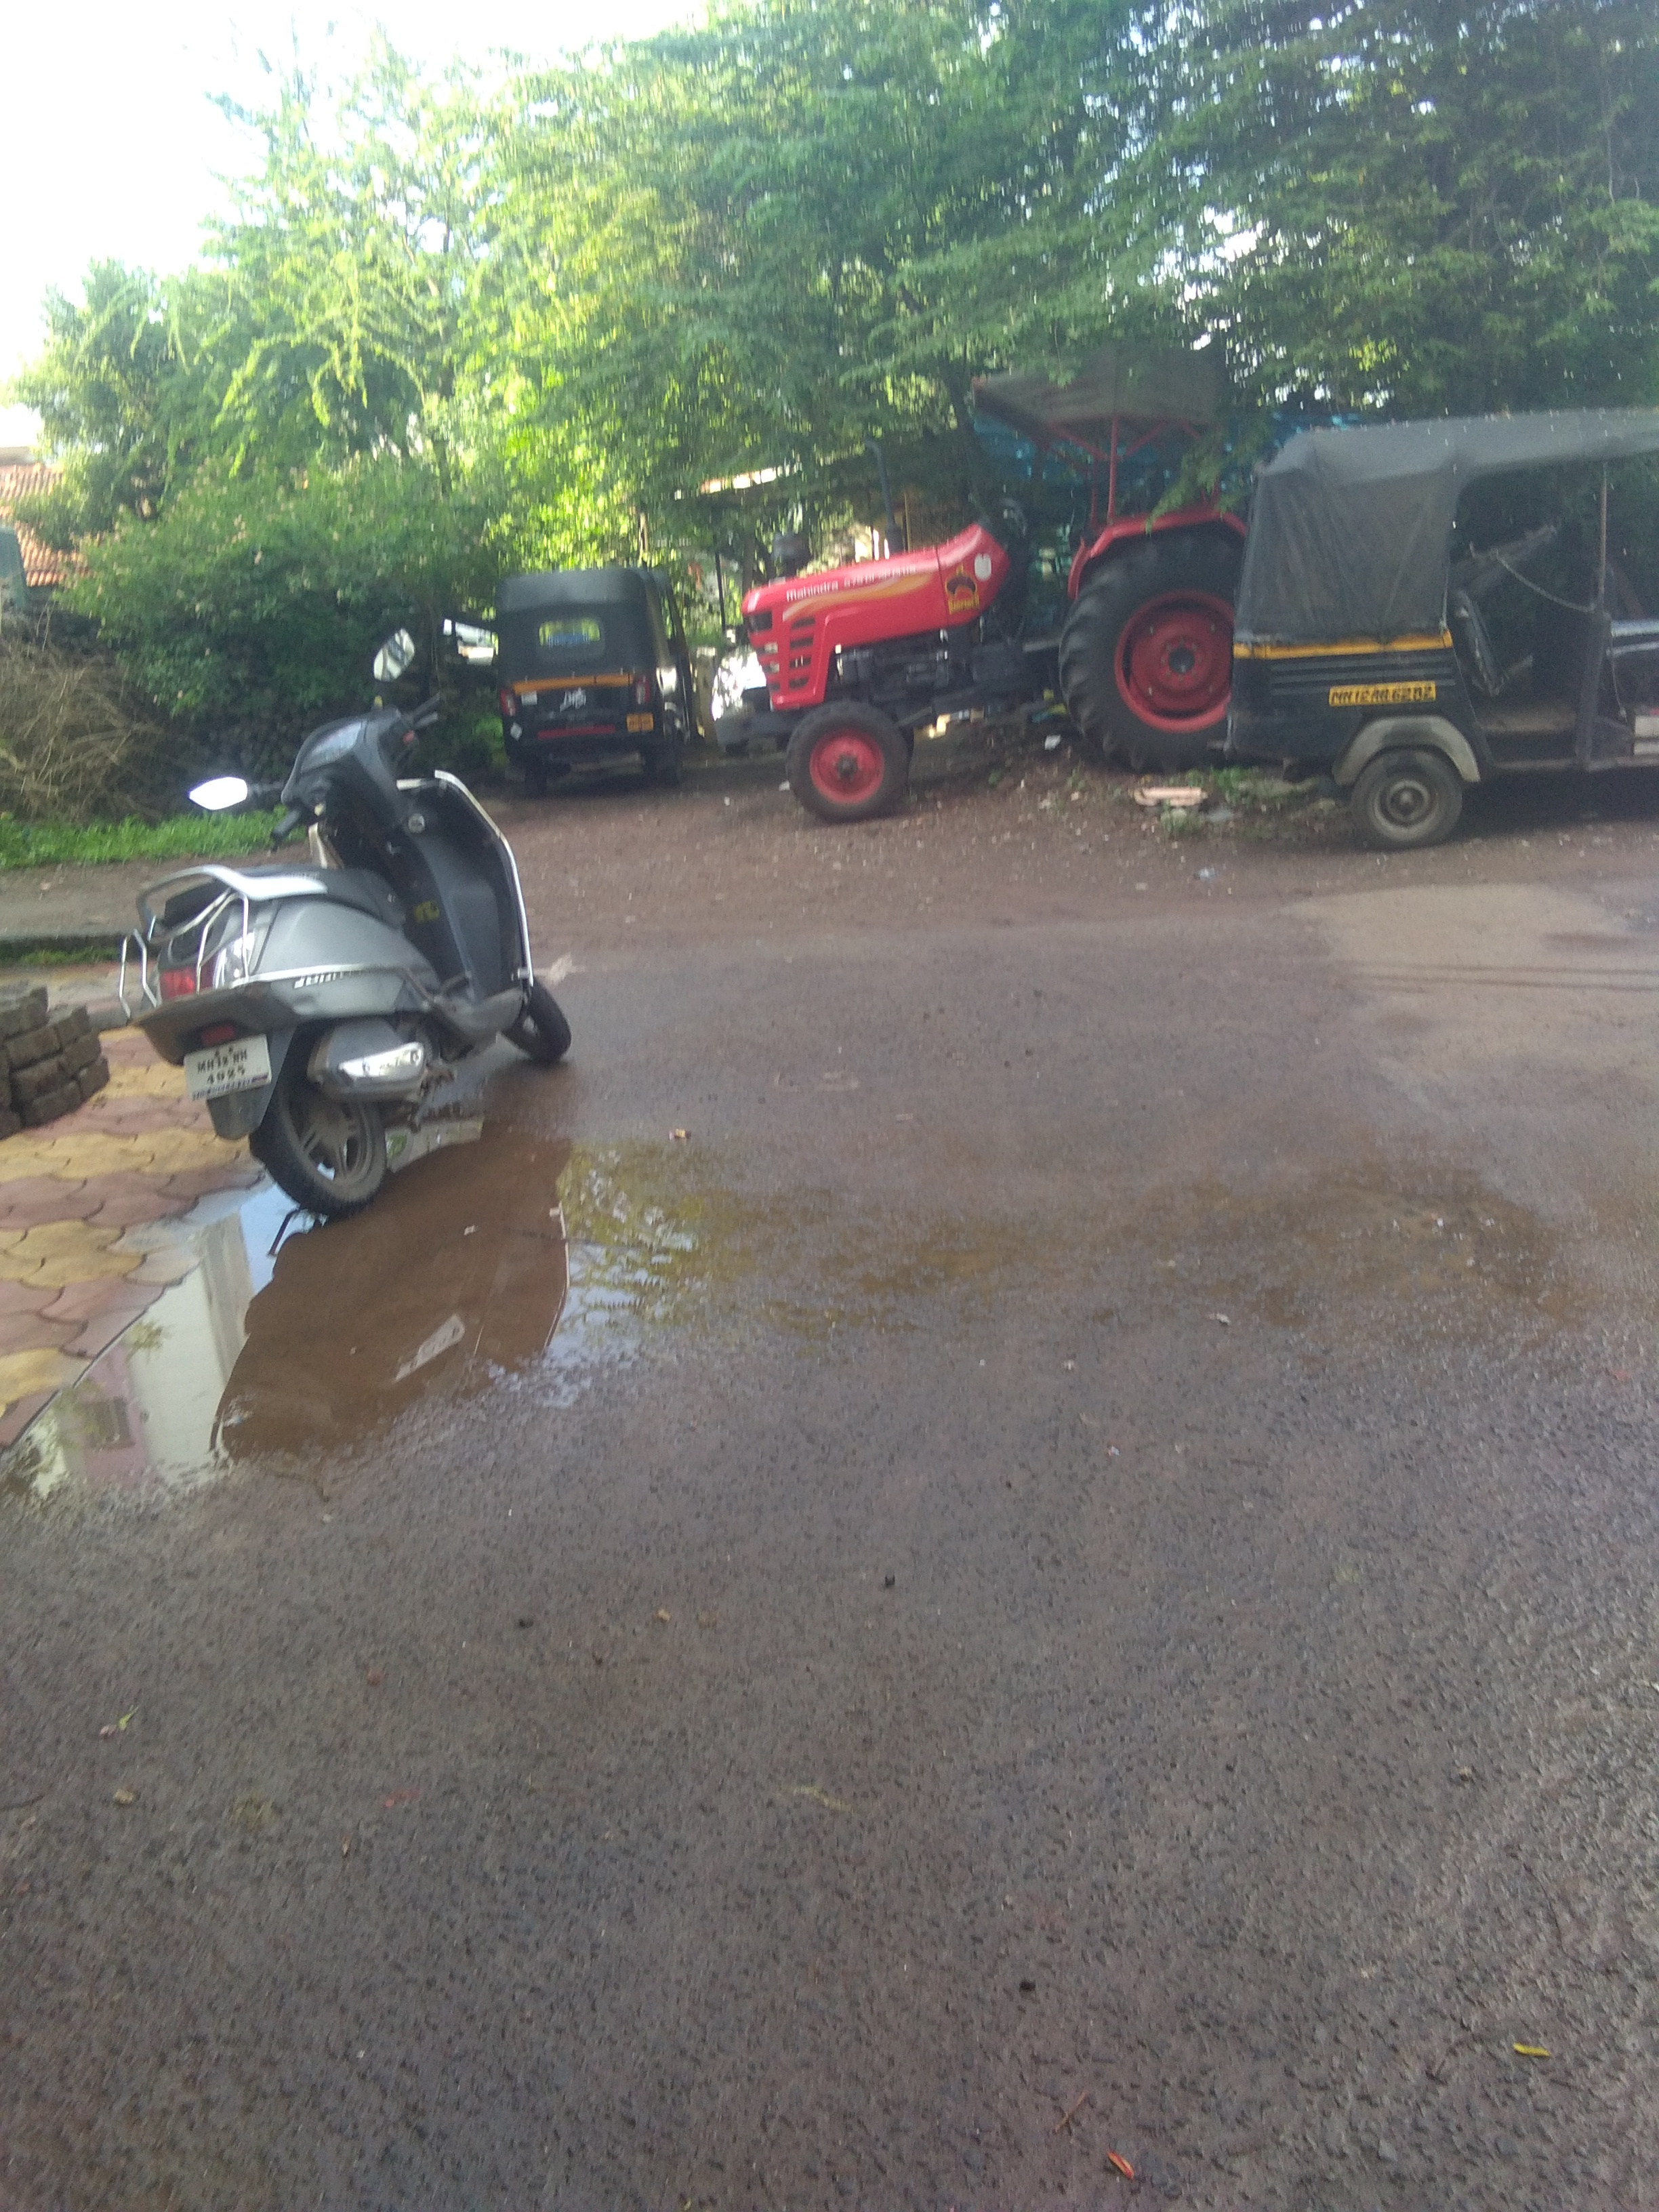truck: (711, 340, 1253, 826)
